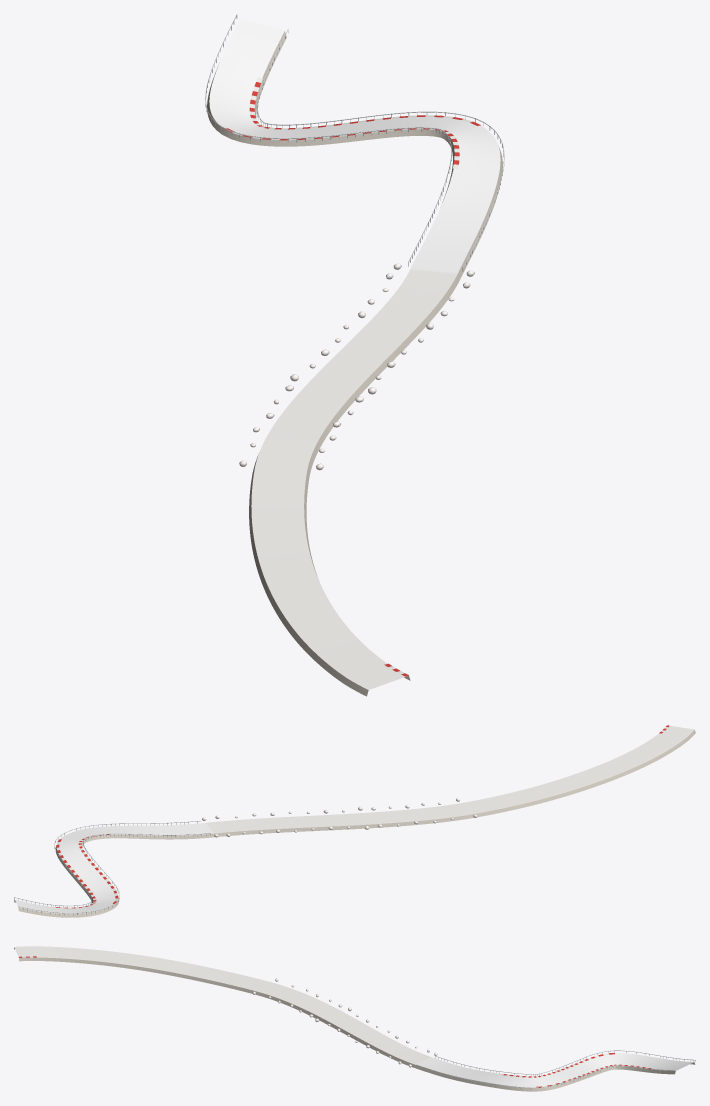
The model's file is SM_RiyadhNights_Track_06.fbx.
The picture shows the model from 3 angles, top to bottom: view 1: azimuth 30°, elevation 25°; view 2: azimuth 150°, elevation 25°; view 3: azimuth 270°, elevation 25°; orthographic projection. The views are drawn at different scales.
Parts seen in each view (by area): view 1: SM_RiyadhNights_Track_06; view 2: SM_RiyadhNights_Track_06; view 3: SM_RiyadhNights_Track_06.
Part boxes in pixels (left/top/right/bottom): SM_RiyadhNights_Track_06: left=205, top=14, right=504, bottom=696; SM_RiyadhNights_Track_06: left=14, top=725, right=695, bottom=917; SM_RiyadhNights_Track_06: left=14, top=946, right=695, bottom=1091.
Size of the model in its own units: 18358 by 1389 by 33675.
